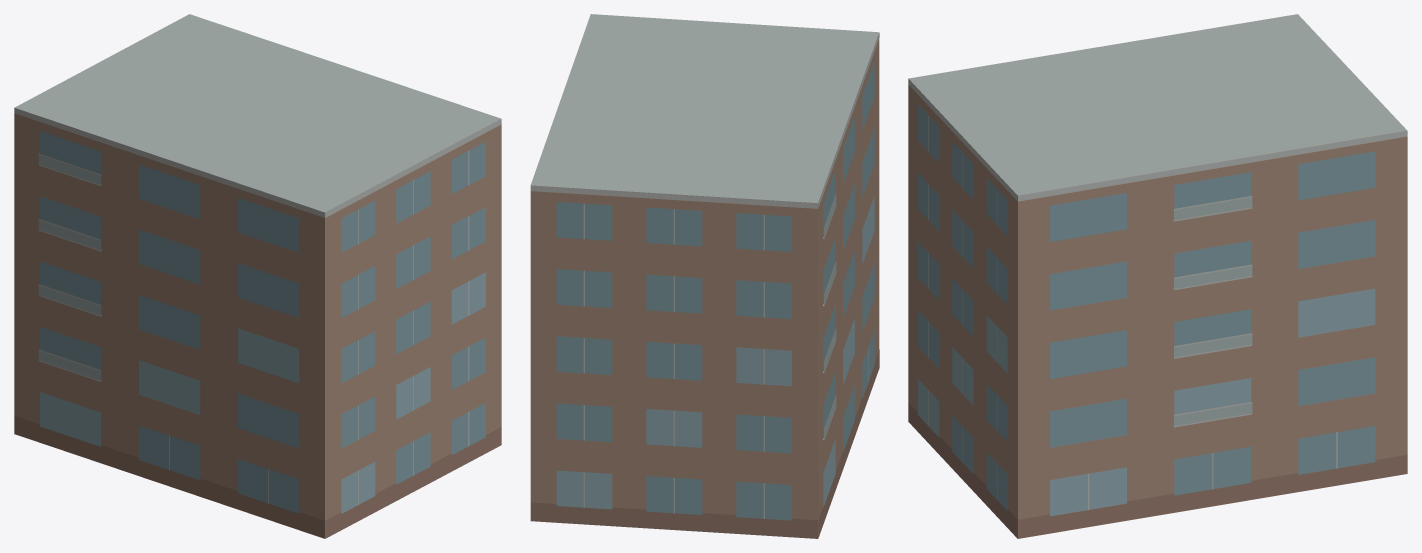
File: survey-upis-32889157.glb
3 renders of one model, left to right at view 1: azimuth 30°, elevation 25°; view 2: azimuth 150°, elevation 25°; view 3: azimuth 270°, elevation 25°, orthographic. The views are drawn at different scales.
Visible parts, largest first — view 1: survey-upis-32889157.tmp; view 2: survey-upis-32889157.tmp; view 3: survey-upis-32889157.tmp.
Part boxes in pixels (left/top/right/bottom): survey-upis-32889157.tmp: left=14, top=14, right=501, bottom=538; survey-upis-32889157.tmp: left=530, top=14, right=879, bottom=538; survey-upis-32889157.tmp: left=908, top=14, right=1407, bottom=538.
Bounding box in the file's own units: 16.31 × 14.35 × 18.93.
